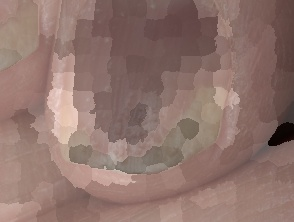Nail_psoriasis: (42, 0, 266, 196), (0, 0, 54, 96)
